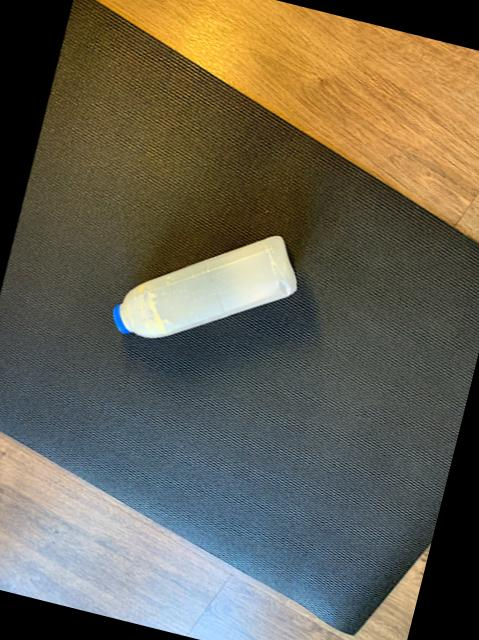plastic: (113, 237, 296, 338)
